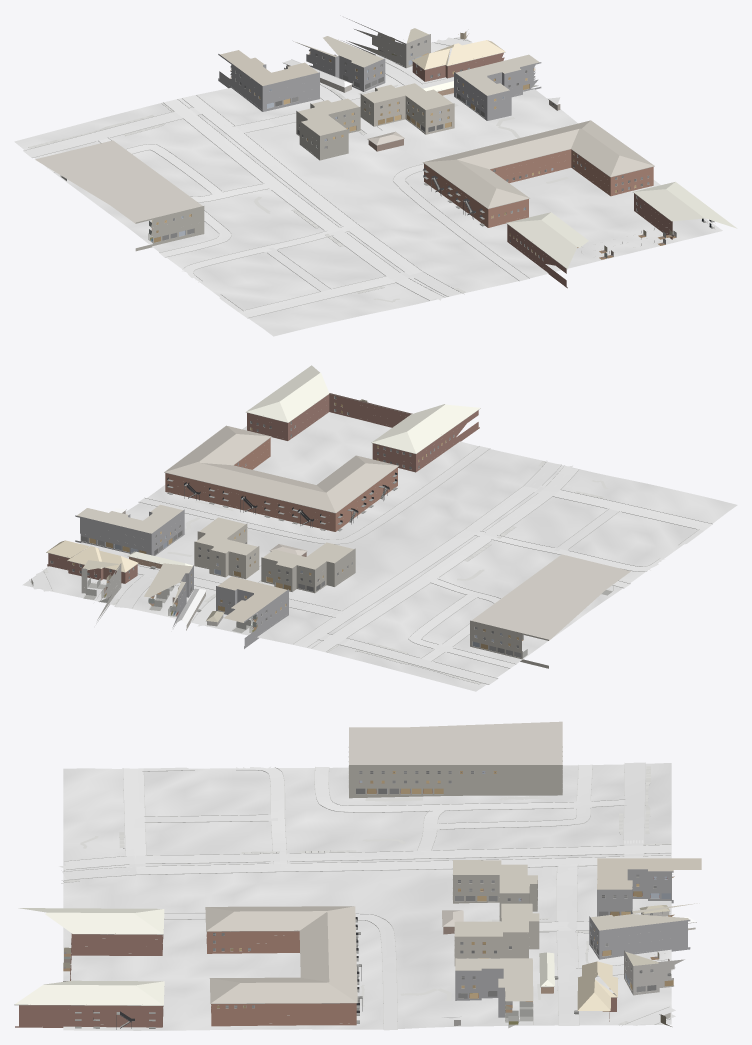
3 renders of one model, top to bottom at view 1: azimuth 30°, elevation 25°; view 2: azimuth 150°, elevation 25°; view 3: azimuth 270°, elevation 25°, orthographic. The views are drawn at different scales.
Visible parts, largest first — view 1: ground, roof, wall_com, roof_flat, concrete, wall, asphalt, curb, detail, walk, glass, glass_lit; view 2: ground, roof, roof_flat, concrete, wall, wall_com, asphalt, curb, detail, room, walk, glass (+1 smaller); view 3: ground, roof, wall_com, roof_flat, concrete, wall, asphalt, curb, walk, detail, glass, room (+2 smaller).
Boxes of the visible parts, x1,y1,x2,y2 form: ground: (14, 37, 722, 336); roof: (283, 40, 737, 268); wall_com: (135, 18, 541, 251); roof_flat: (35, 28, 539, 223); concrete: (23, 37, 529, 317); wall: (368, 31, 672, 288); asphalt: (164, 95, 460, 300); curb: (23, 38, 529, 318); detail: (60, 29, 715, 268); walk: (28, 84, 568, 302); glass: (162, 37, 649, 260); glass_lit: (154, 51, 636, 254); ground: (22, 412, 737, 691); roof: (46, 365, 480, 624); roof_flat: (77, 504, 630, 640); concrete: (30, 446, 712, 684); wall: (47, 393, 479, 583); wall_com: (75, 509, 548, 668); asphalt: (293, 462, 578, 651); curb: (29, 446, 712, 684); detail: (31, 393, 613, 657); room: (72, 399, 612, 657); walk: (43, 461, 608, 684); glass: (51, 396, 521, 657); ground: (63, 763, 671, 1030); roof: (14, 905, 696, 1018); wall_com: (349, 765, 690, 1017); roof_flat: (349, 721, 701, 1001); concrete: (123, 762, 675, 1030); wall: (15, 927, 671, 1027); asphalt: (59, 845, 671, 879); curb: (61, 762, 672, 1029); walk: (63, 766, 672, 1025); detail: (14, 746, 696, 1029); glass: (213, 771, 670, 1008); room: (63, 771, 674, 1028).
Bounding box in the file's own units: 269 × 18.95 × 297.
